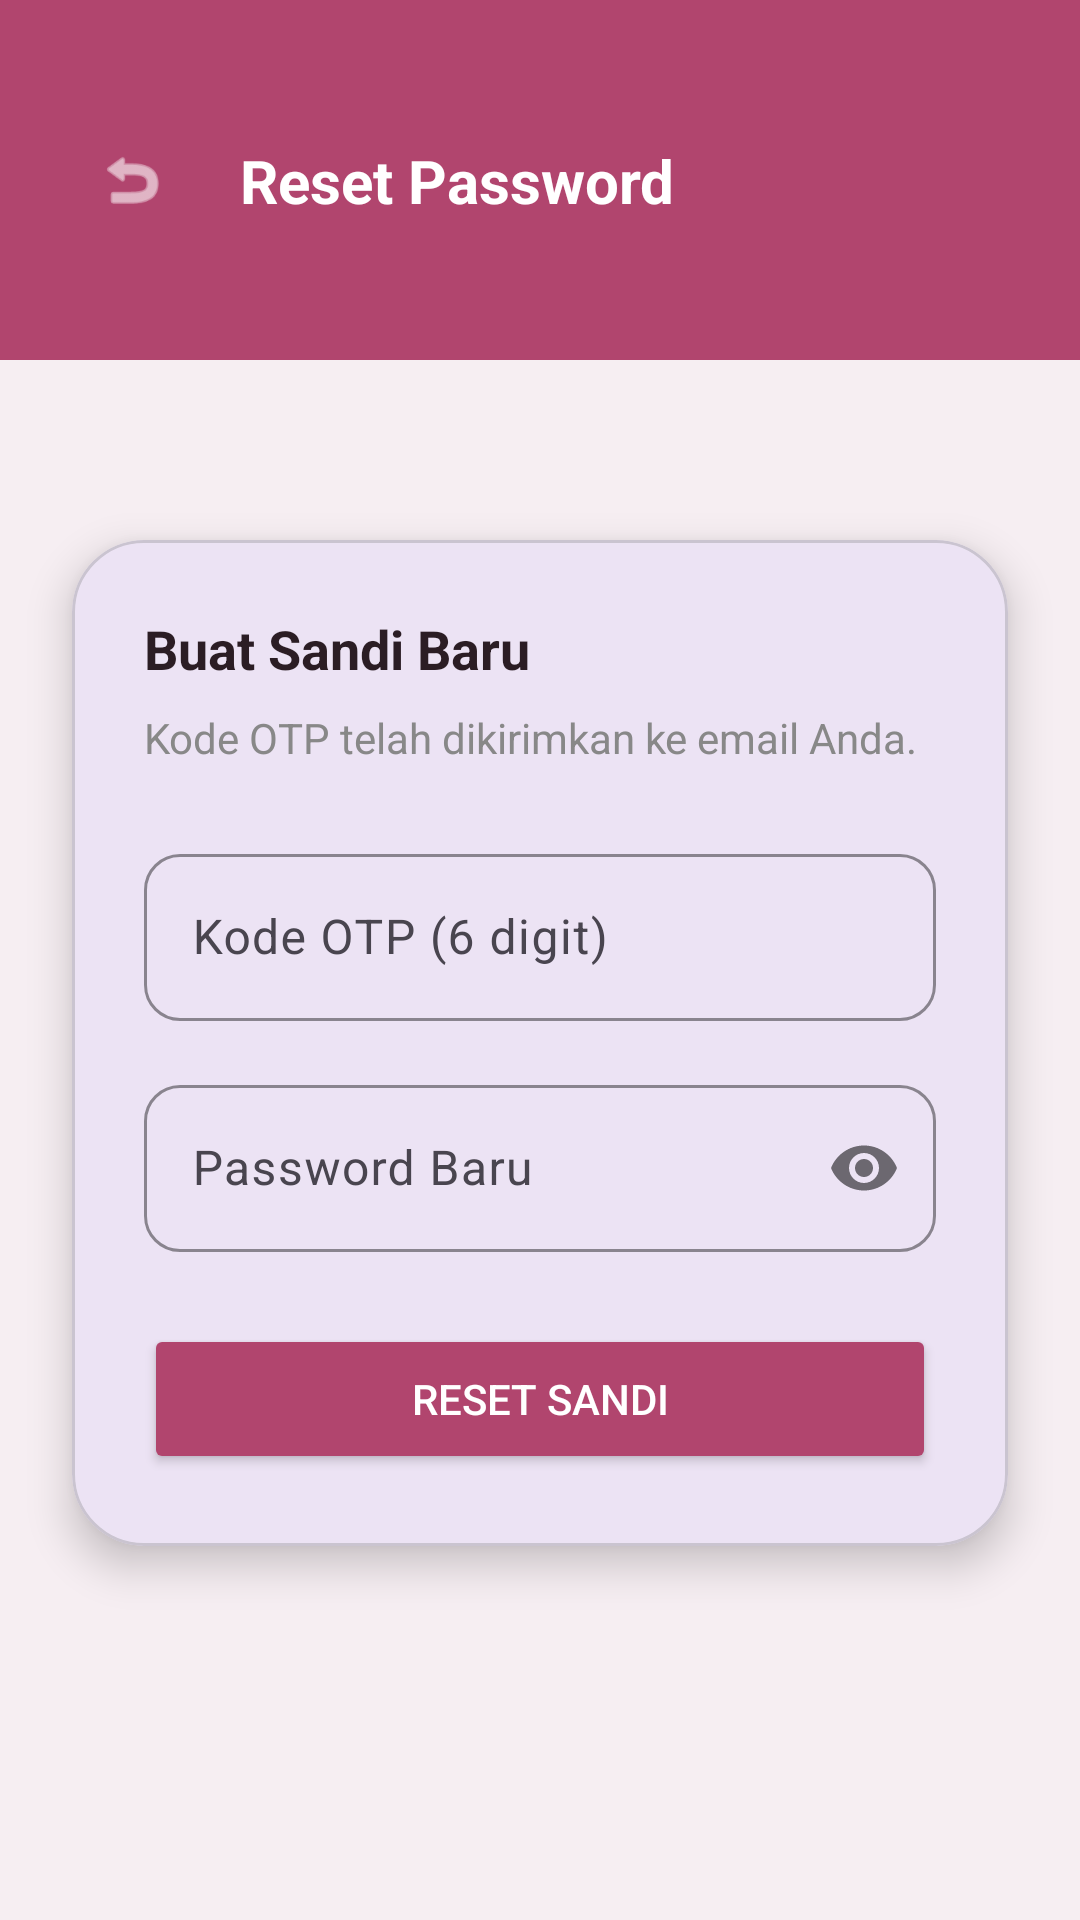

Where to tap for icons on this 1080x1920 app screen, as [x,y]:
revert: [133,180]
